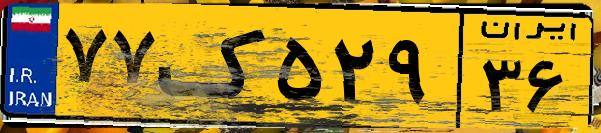2: (330, 28, 385, 110)
3: (475, 38, 525, 113)
5: (270, 28, 330, 110)
6: (525, 38, 570, 115)
7: (57, 26, 110, 100), (110, 28, 158, 98)
9: (385, 28, 445, 110)
ک: (158, 12, 270, 120)
